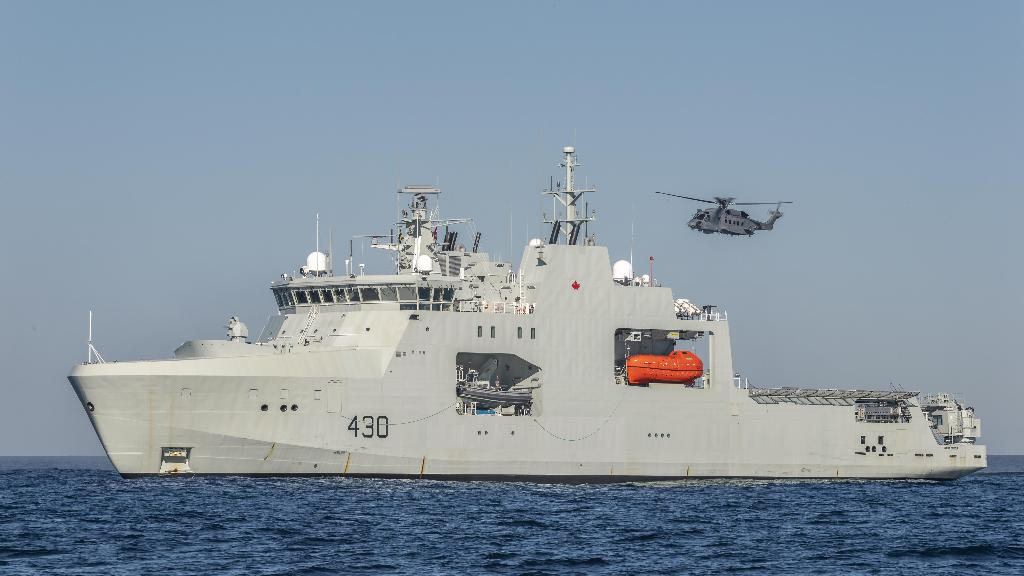Warship: (67, 138, 995, 492)
